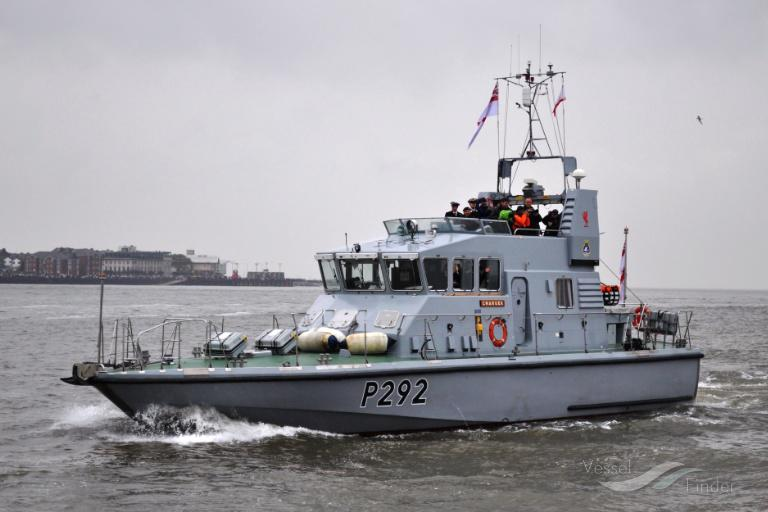OCR: (354, 380, 434, 413)
